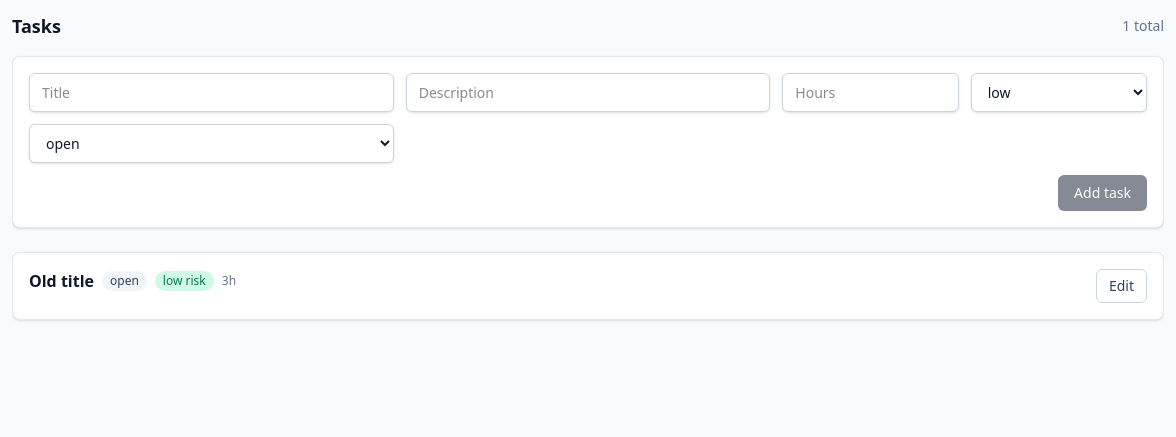
Test: Tasks › edits an existing task and updates the row in place
Expected: the heading "Old title" is shown, [29, 269, 94, 293]
Click the button "Edit" at (1121, 286), box [1096, 269, 1147, 303]
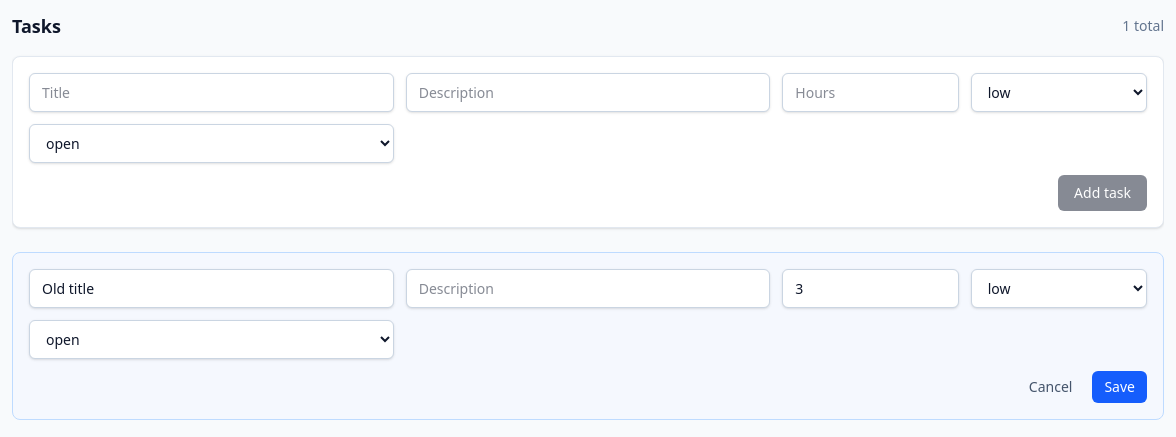
Replace the text in the field with placeholder "Title" with "New title" at (211, 288), box [29, 269, 394, 308]
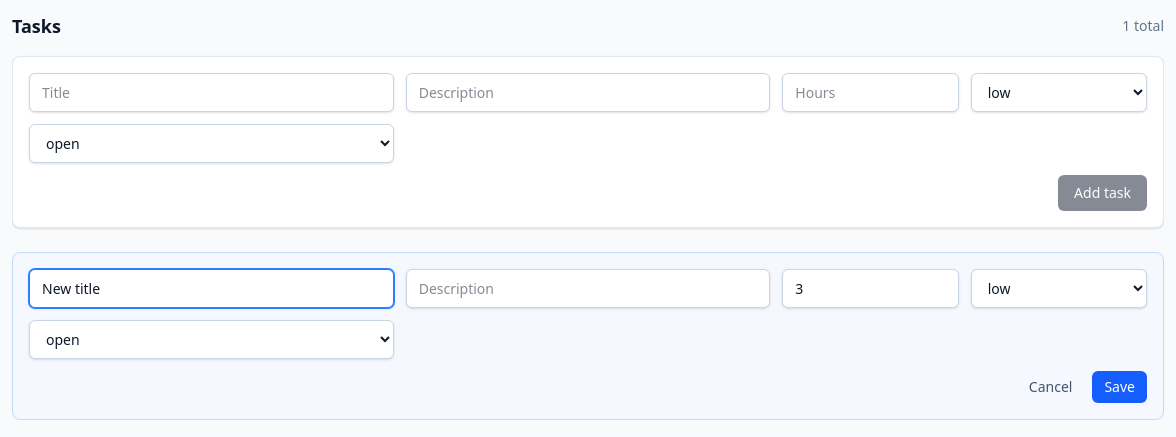
Click the button "Save" at (1120, 387), box [1092, 371, 1147, 403]
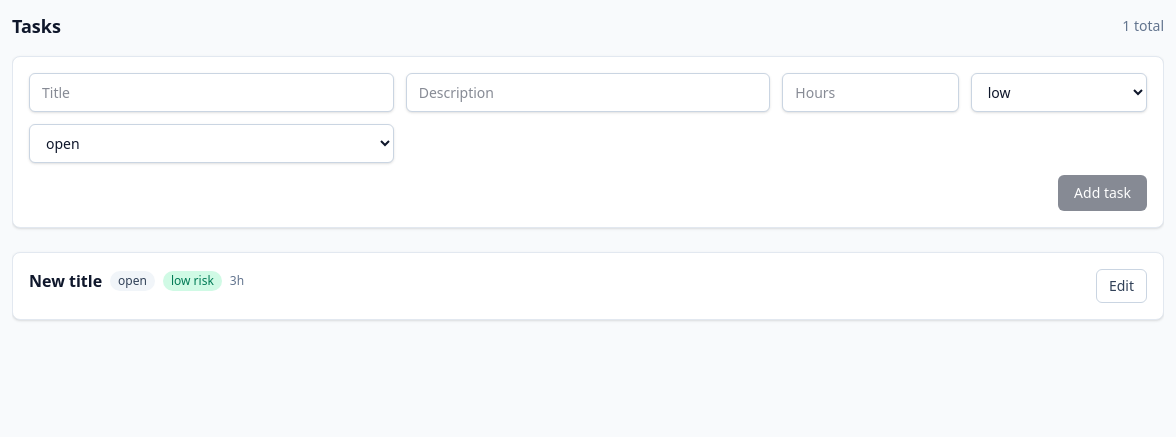
Expected: the heading "Old title" is not shown
Result: the heading "New title" is shown at [29, 269, 102, 293]
